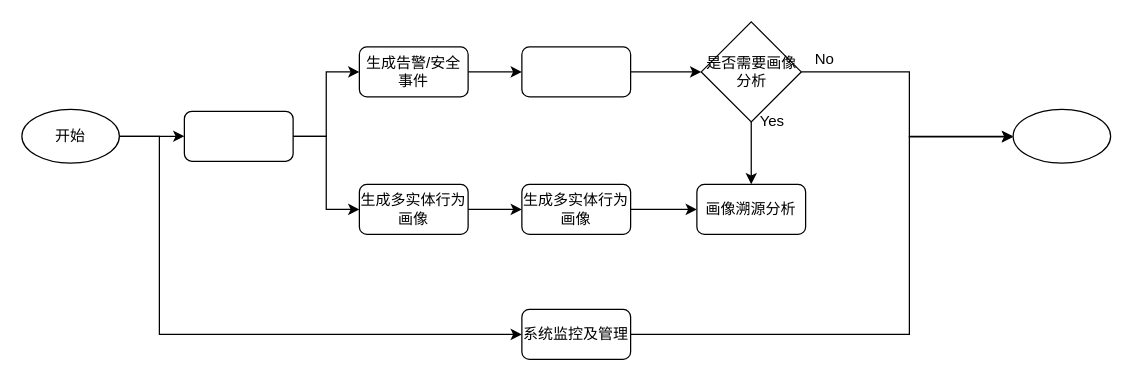
Some shapes in this 1133 by 381 pixel diagram are drawn without their labels. Each missing label, with the centre of its shape:
"各引擎持续消费安全日志" goes at (x=238, y=135).
"溯源事件分析" goes at (x=576, y=71).
"结束" goes at (x=1061, y=135).
